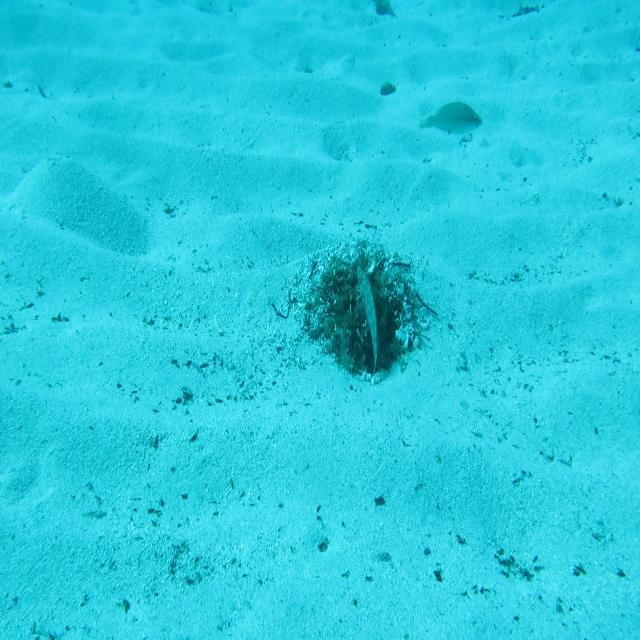H_UP: (354, 261, 384, 382)
female: (417, 96, 484, 142)
nest: (299, 238, 426, 382)
